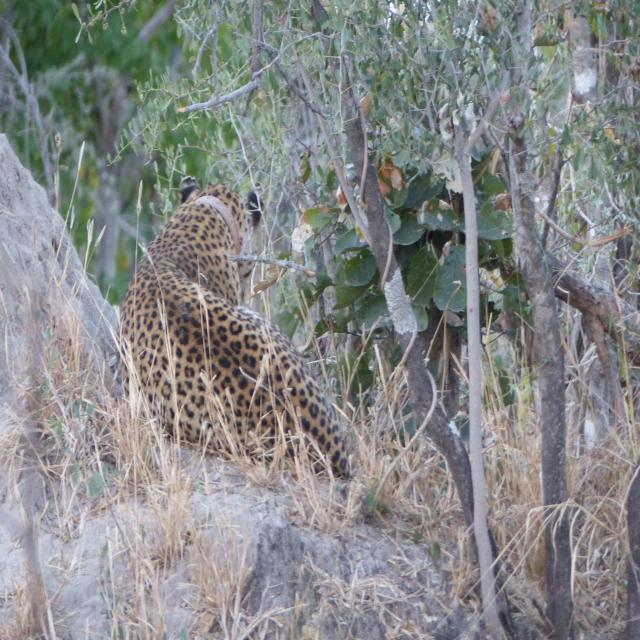Leopard: (115, 164, 356, 497)
